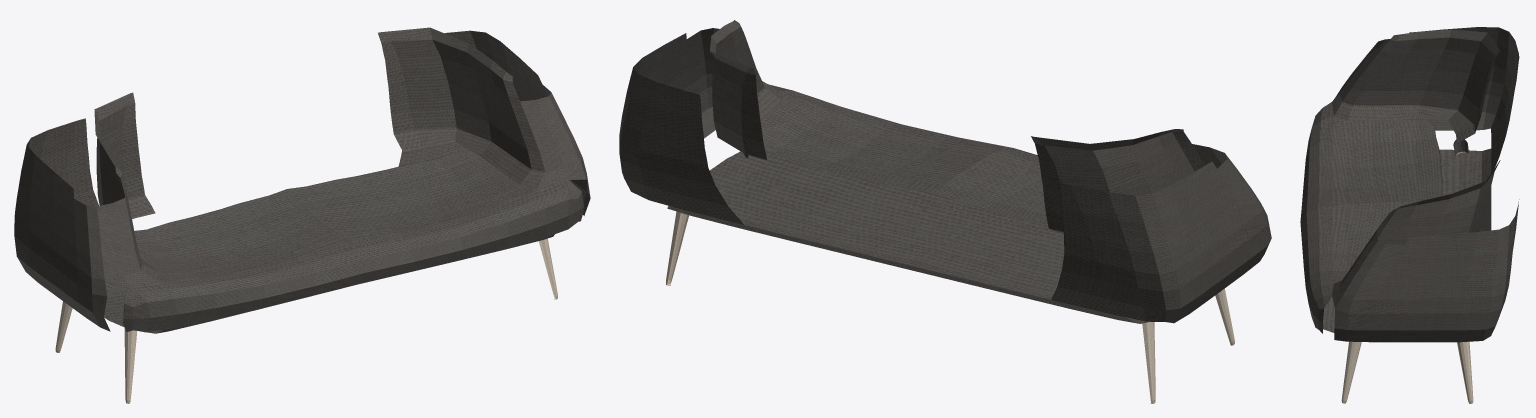
File: couch.obj
3 views of the same model, side by side, from view 1: azimuth 30°, elevation 25°; view 2: azimuth 150°, elevation 25°; view 3: azimuth 270°, elevation 25° (orthographic). The views are drawn at different scales.
Parts seen in each view (by area): view 1: Cube.001; view 2: Cube.001; view 3: Cube.001.
Part boxes in pixels (box(x1,y1,x2,y2)): Cube.001: box(14, 27, 590, 403); Cube.001: box(619, 20, 1271, 403); Cube.001: box(1300, 27, 1519, 403).
Size of the model in its own units: 6.04 by 2.66 by 2.58.
Materials: 1 (1 with a texture image).
